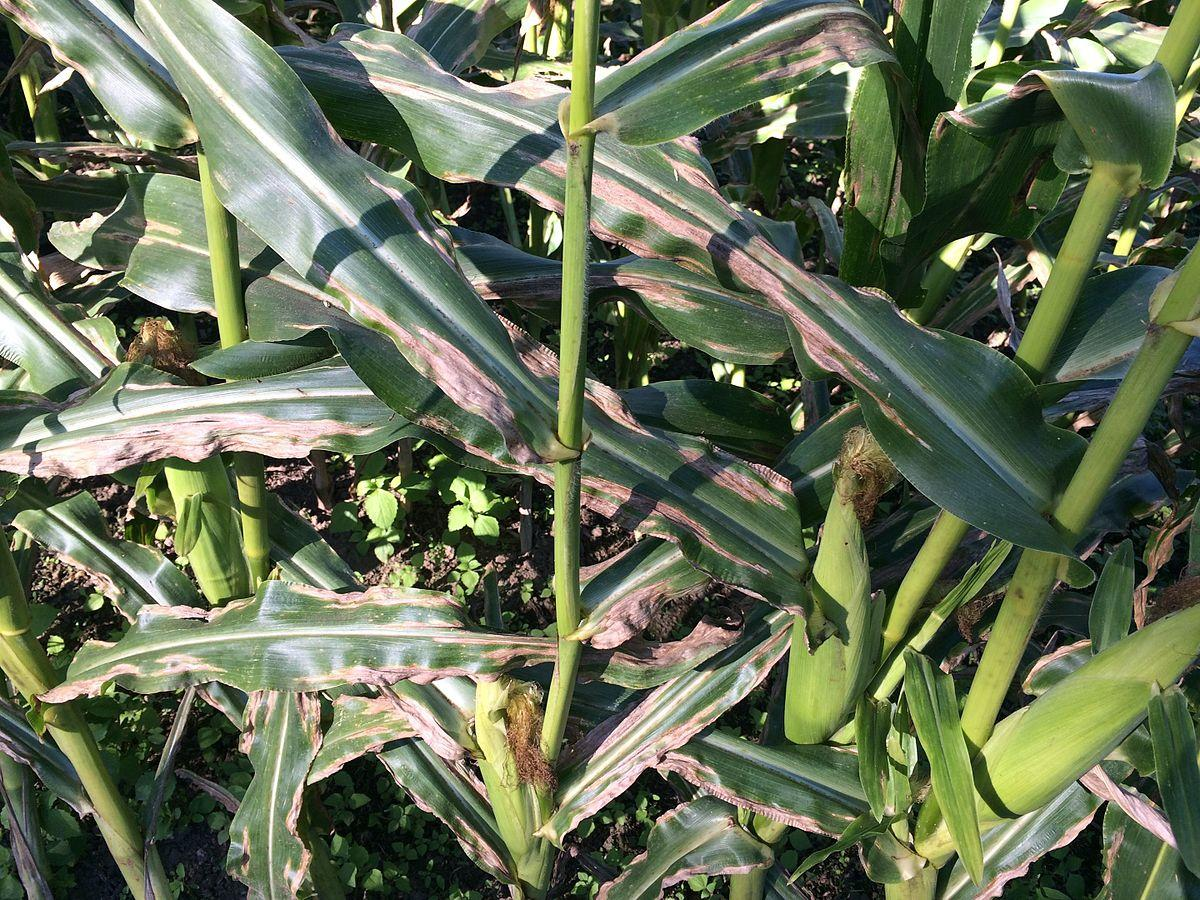Corn leaf blight: (283, 22, 1105, 561), (133, 1, 566, 526), (32, 576, 763, 686), (2, 354, 473, 486)
